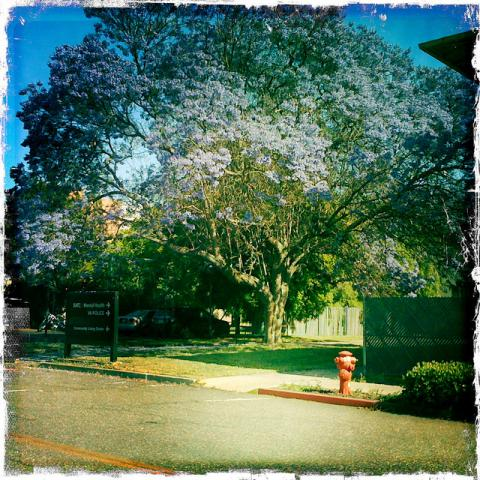car: (149, 307, 229, 338), (115, 308, 156, 334)
motorcycle: (37, 307, 63, 333)
